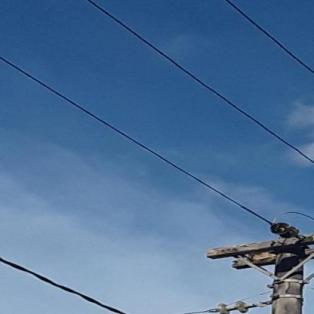Poste: (228, 222, 314, 314)
